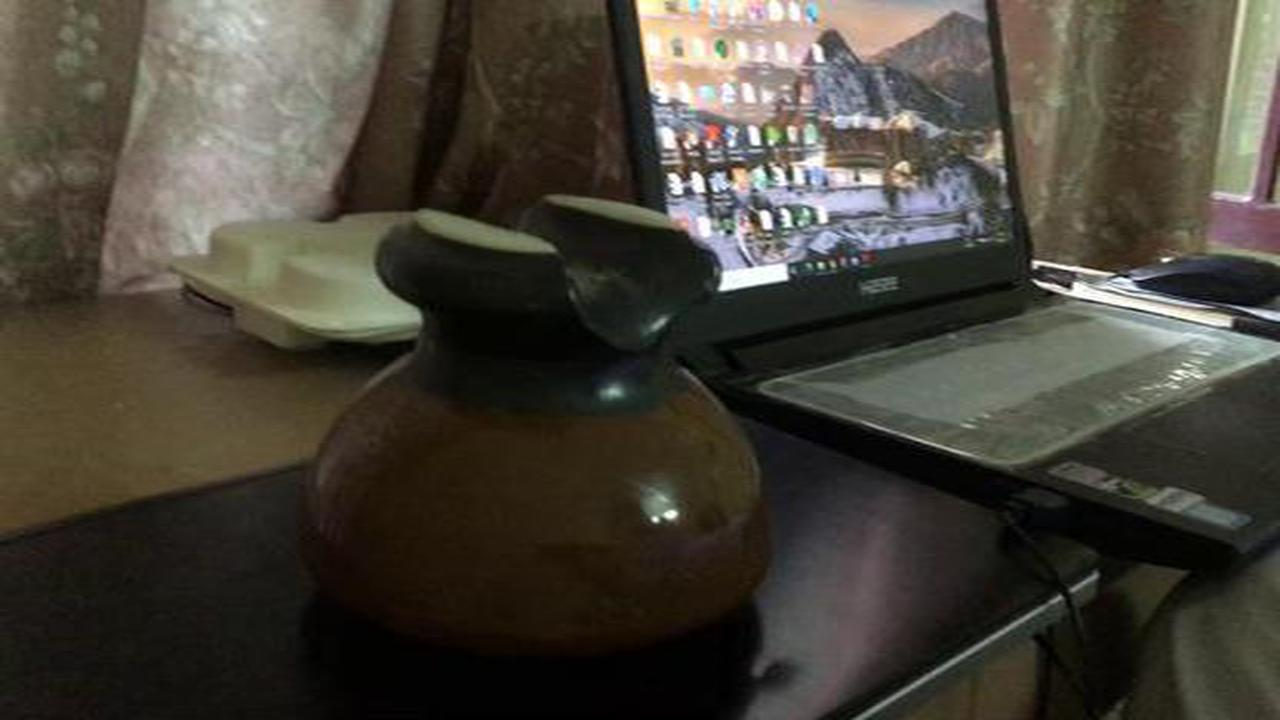insulator_pin: (290, 182, 804, 660)
